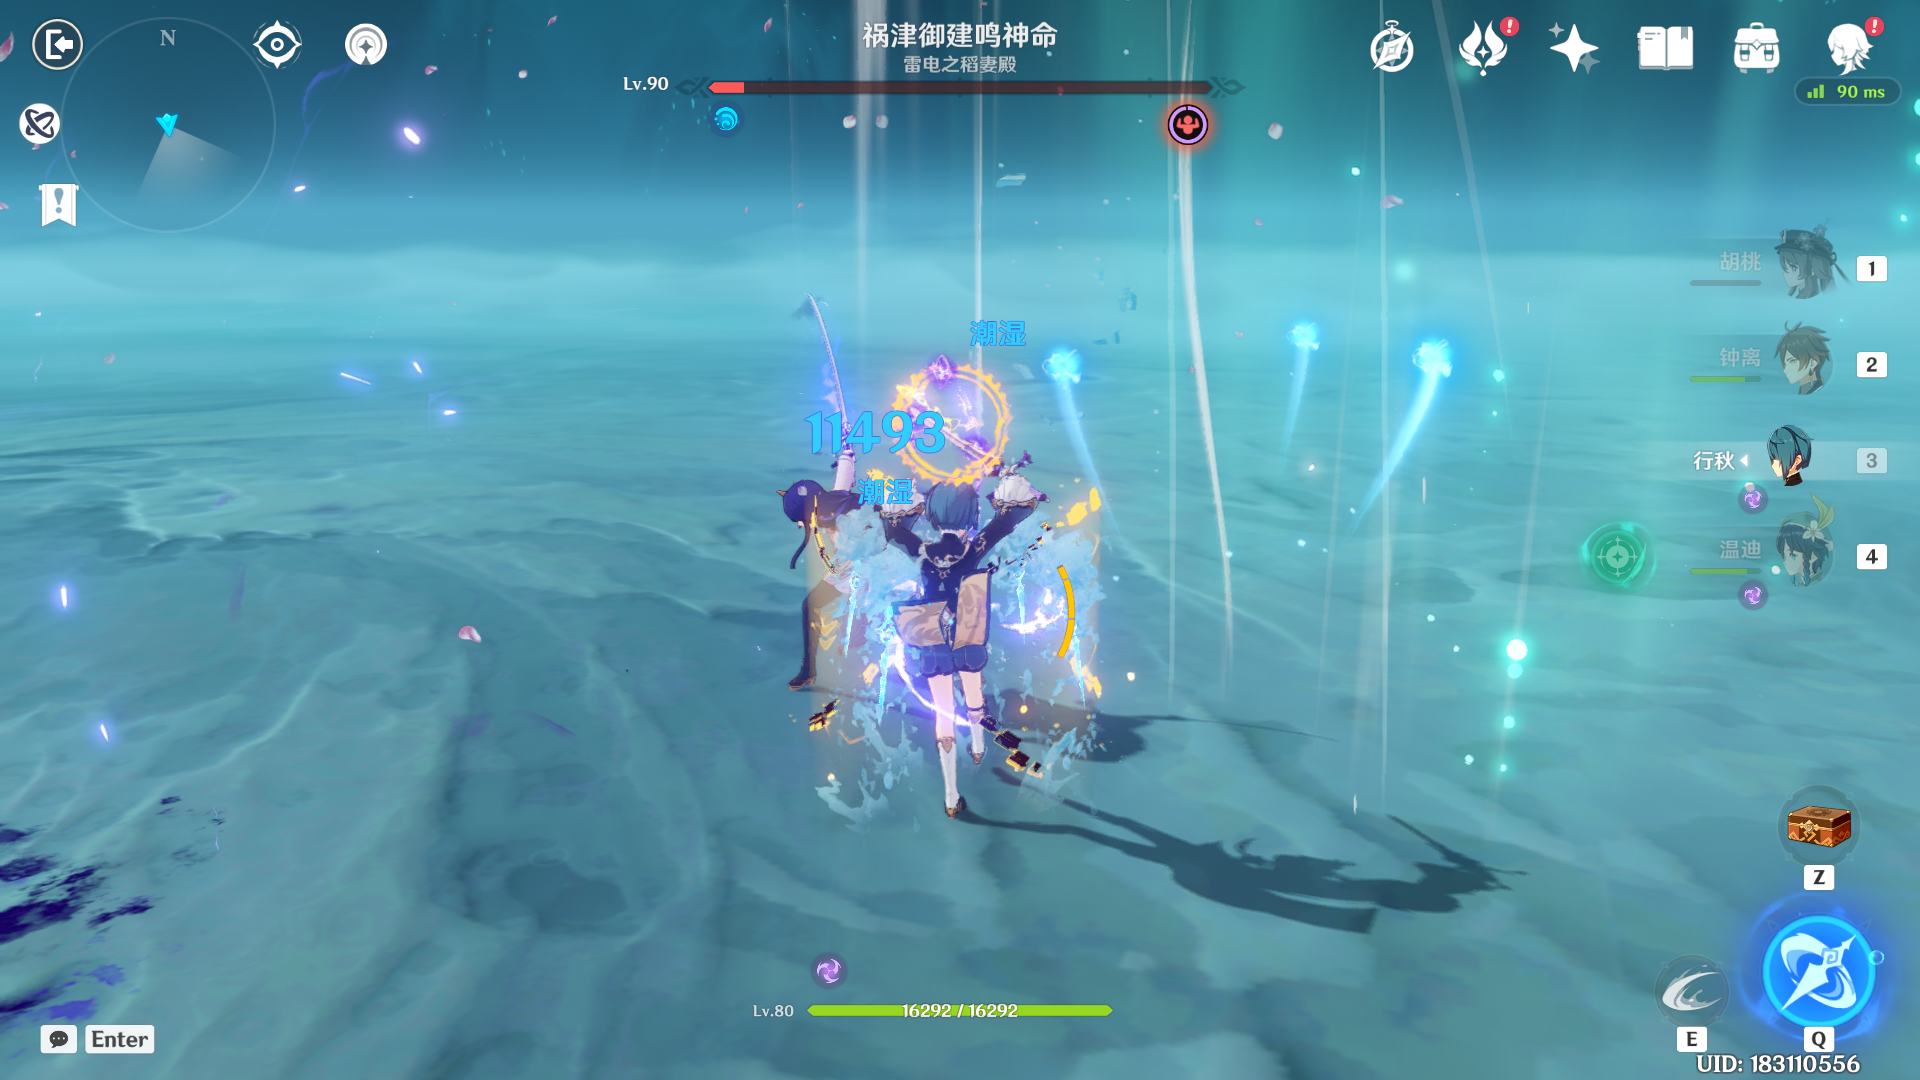character: (814, 417, 1080, 853), (741, 431, 922, 703)
